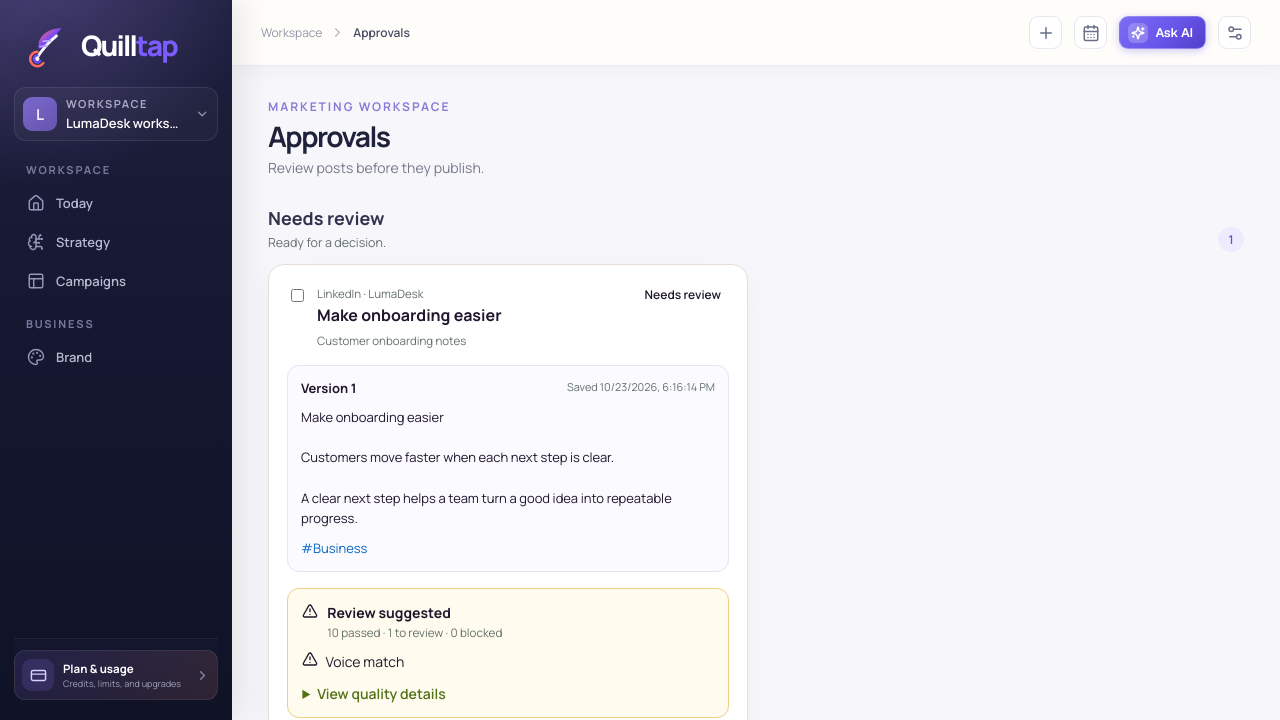
Test: Quilltap core screens › shows advisory quality details without blocking approval
Expected: the text "Review suggested" is shown, [327,603,451,622]
Click the heading "View quality details".
click(374, 693)  # box [302,684,446,703]
(page scrolled)
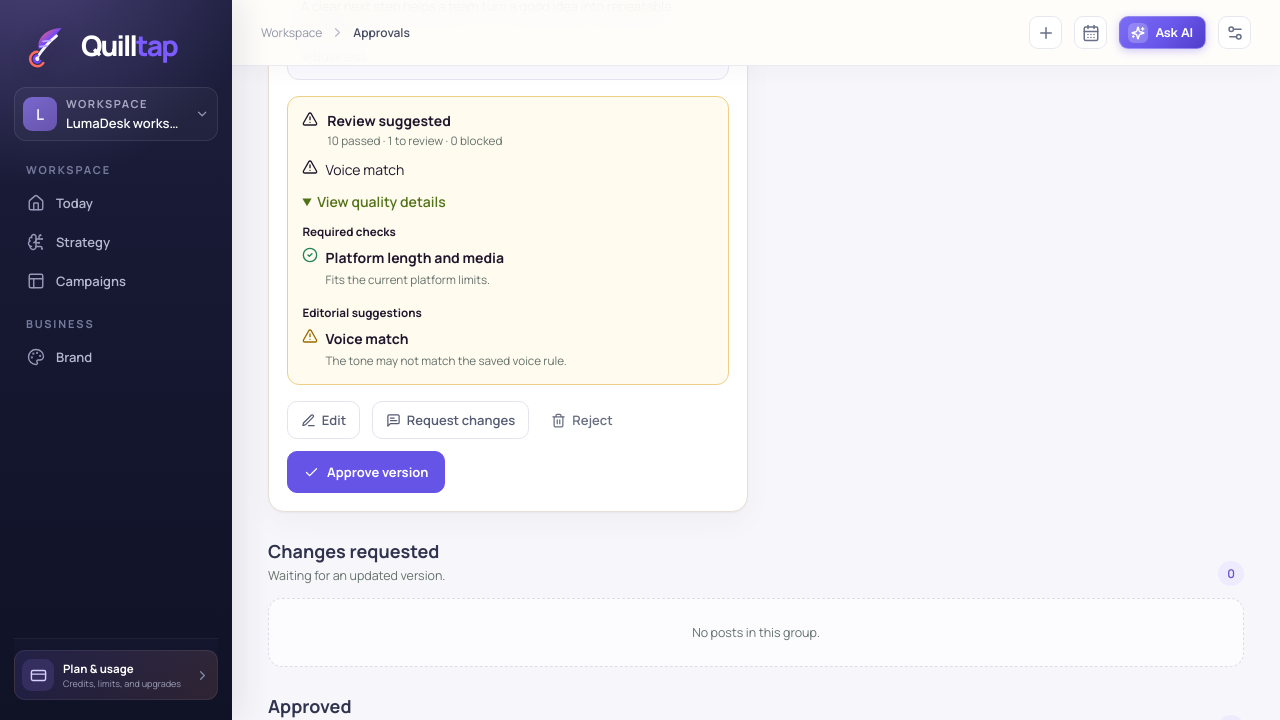
Now the text "The tone may not match the saved voice rule." is shown, box [326,352,567,370]
